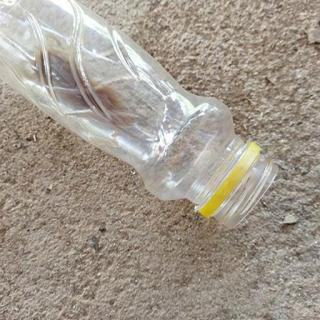Plastic-bottle: (1, 1, 281, 233)
